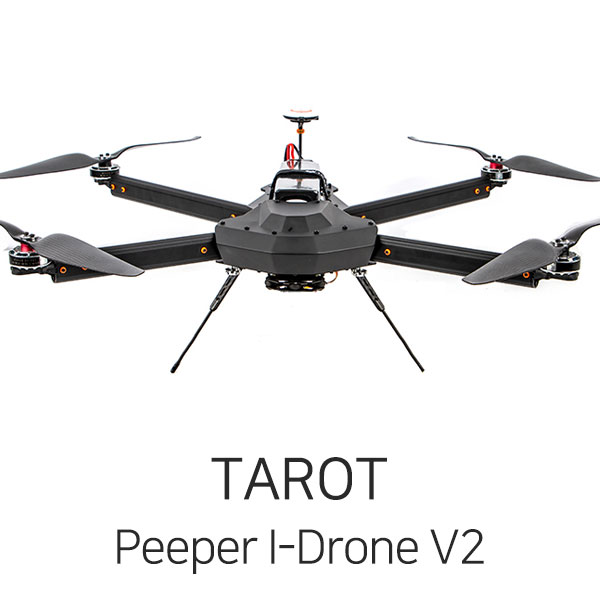drone: (1, 97, 600, 385)
